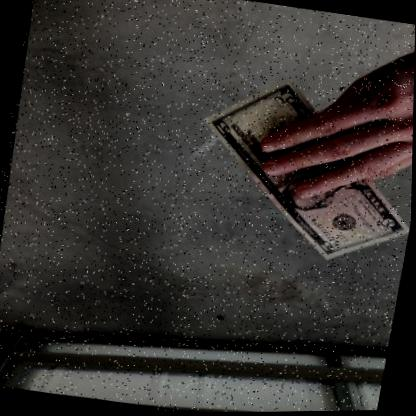five-front: (199, 76, 409, 261)
